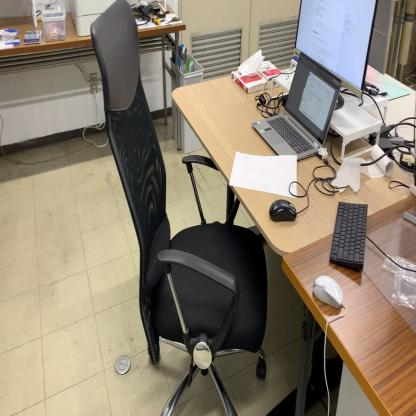chair: (89, 0, 270, 416)
